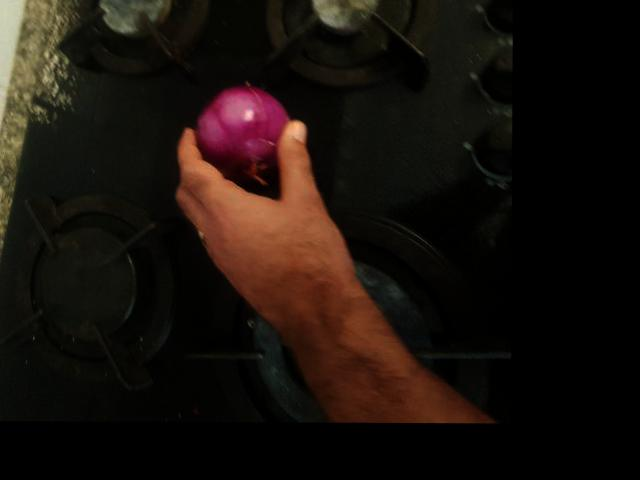onion: (10, 1, 109, 99)
